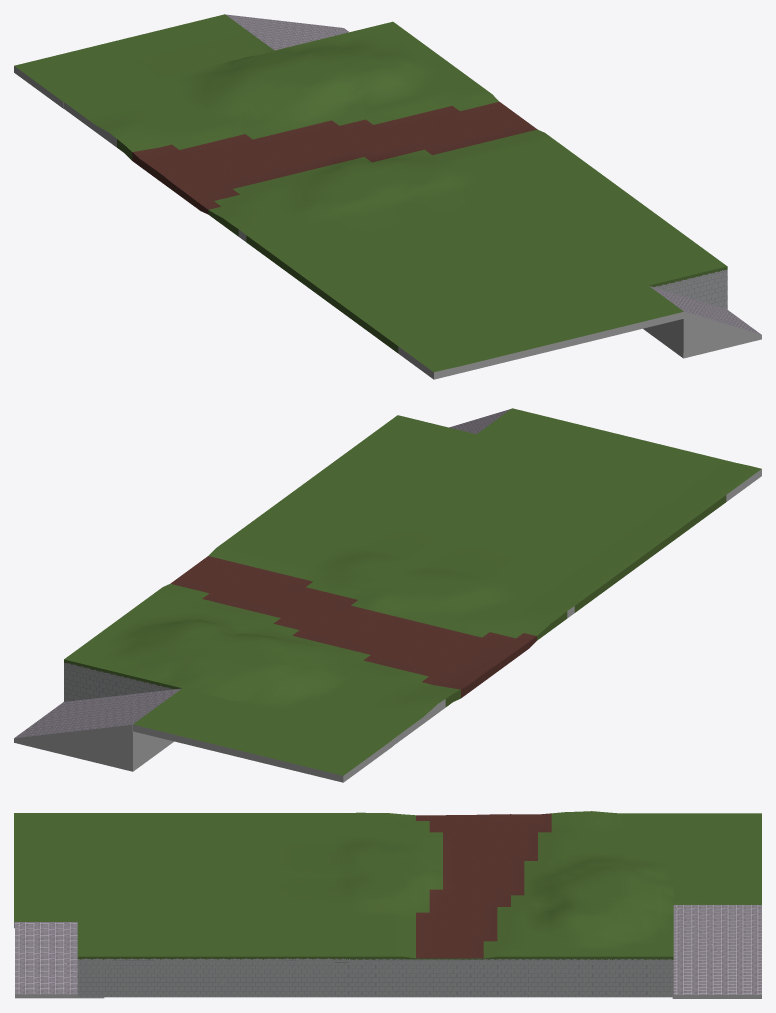
File: CastleFrontPlane.fbx
3 views of the same model, one above another, from view 1: azimuth 30°, elevation 25°; view 2: azimuth 150°, elevation 25°; view 3: azimuth 270°, elevation 25° (orthographic). The views are drawn at different scales.
Visible parts, largest first — view 1: MainCentralPlane, MoatRampLeft, MoatRampRight; view 2: MainCentralPlane, MoatRampRight; view 3: MainCentralPlane, MoatRampRight, MoatRampLeft.
Boxes of the visible parts, left/top/right/bottom form: MainCentralPlane: left=14, top=14, right=727, bottom=379; MoatRampLeft: left=643, top=286, right=761, bottom=358; MoatRampRight: left=225, top=14, right=349, bottom=50; MainCentralPlane: left=64, top=408, right=761, bottom=782; MoatRampRight: left=14, top=688, right=181, bottom=771; MainCentralPlane: left=14, top=811, right=761, bottom=997; MoatRampRight: left=672, top=905, right=761, bottom=998; MoatRampLeft: left=15, top=922, right=104, bottom=998.
Bounding box in the file's own units: 10022 × 1670 × 22074.
Materials: 6 (5 with a texture image).
